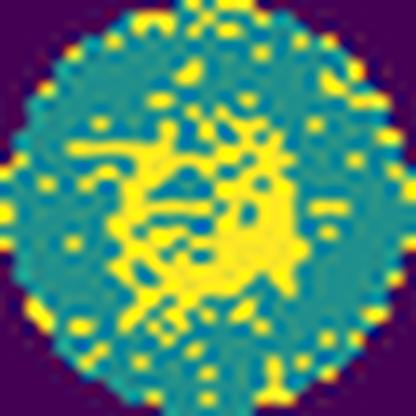Center: (70, 107, 311, 340)
